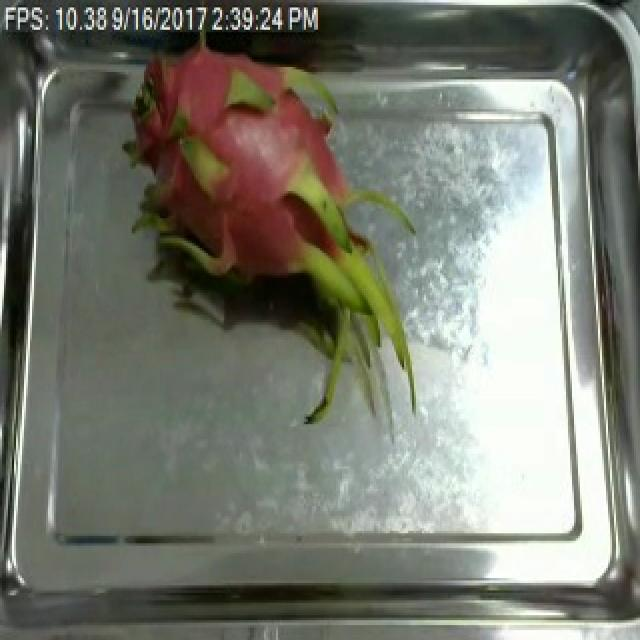fruit: (92, 2, 430, 342)
